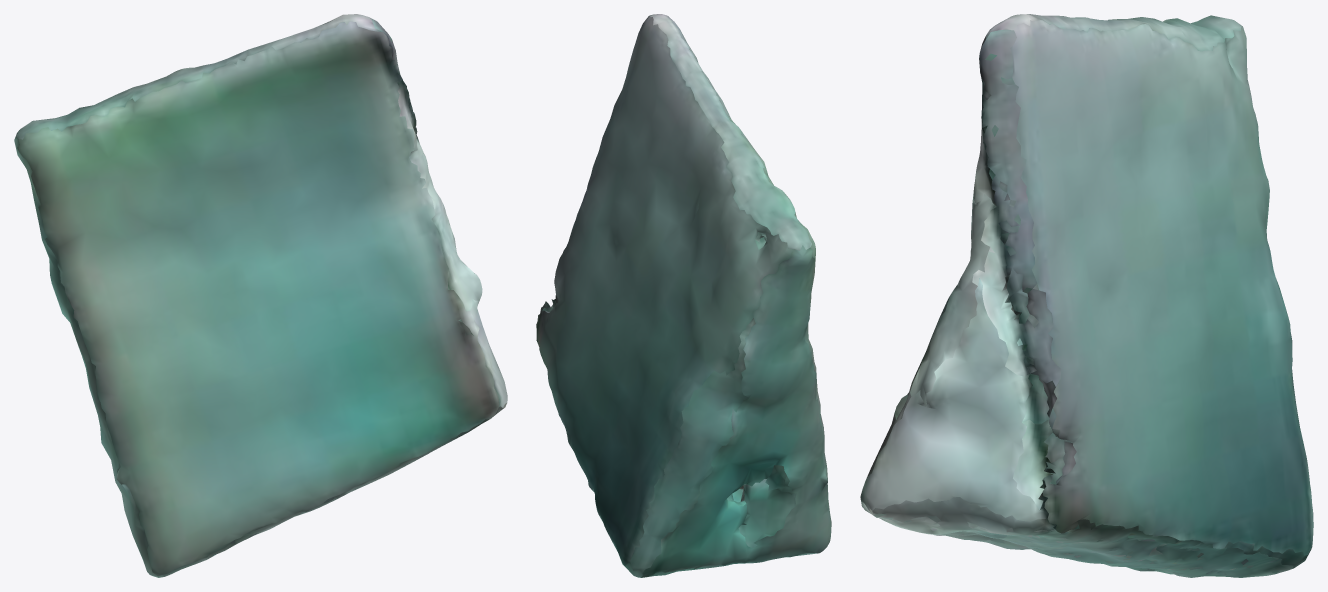
File: 21_mirror.glb
3 renders of one model, left to right at view 1: azimuth 30°, elevation 25°; view 2: azimuth 150°, elevation 25°; view 3: azimuth 270°, elevation 25°, orthographic. The views are drawn at different scales.
Visible parts, largest first — view 1: 21_mirror; view 2: 21_mirror; view 3: 21_mirror.
Boxes of the visible parts, box(x1,y1,x2,y2) form: 21_mirror: box(14, 14, 507, 577); 21_mirror: box(536, 14, 831, 577); 21_mirror: box(860, 14, 1313, 577).
Bounding box in the file's own units: 0.5486 × 0.7392 × 0.481.
Materials: 1 (1 with a texture image).
